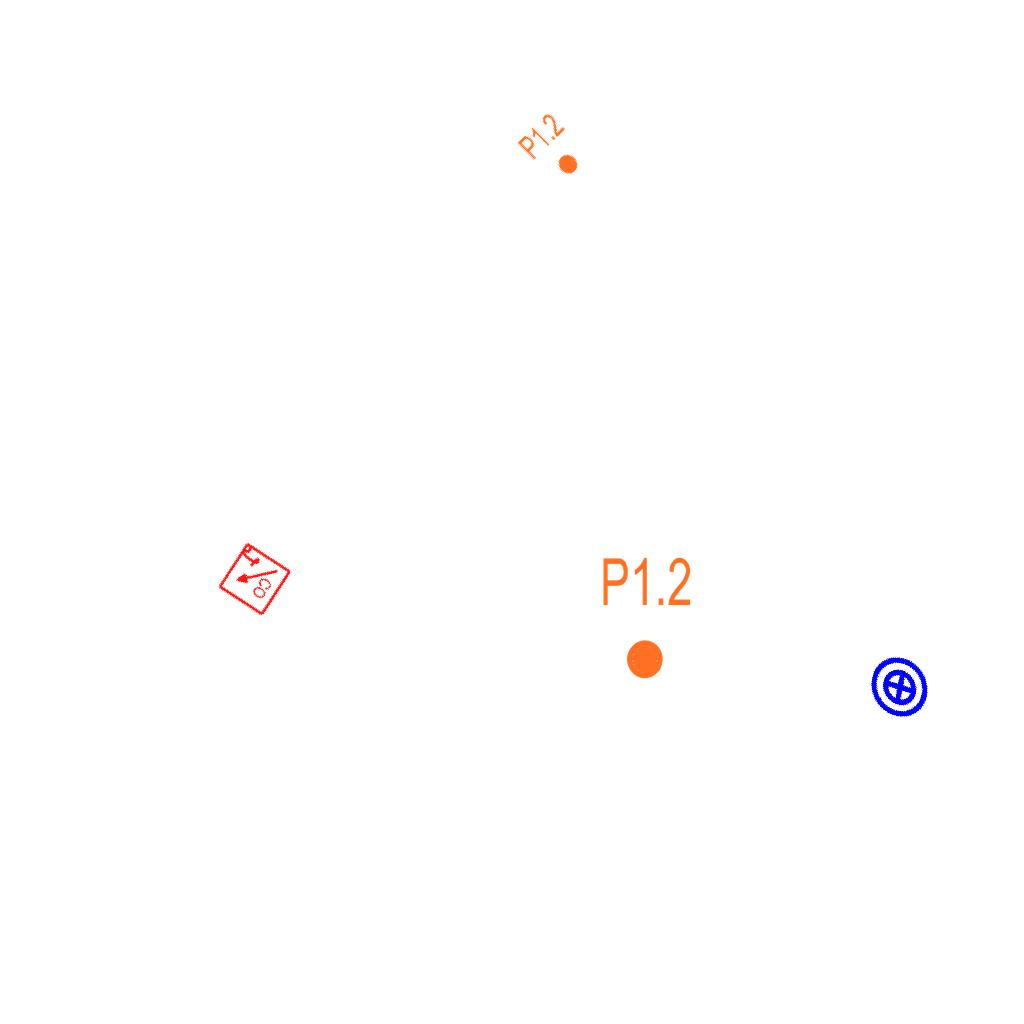Downlight_LED_Einbauleuchten_Flur: (600, 554, 693, 682), (515, 110, 593, 188)
ROA_Rauchmelder_optisch_mit_Signalgeber_(Sockelsirene): (215, 540, 293, 618)
Taster_beleuchtet: (854, 641, 946, 733)
